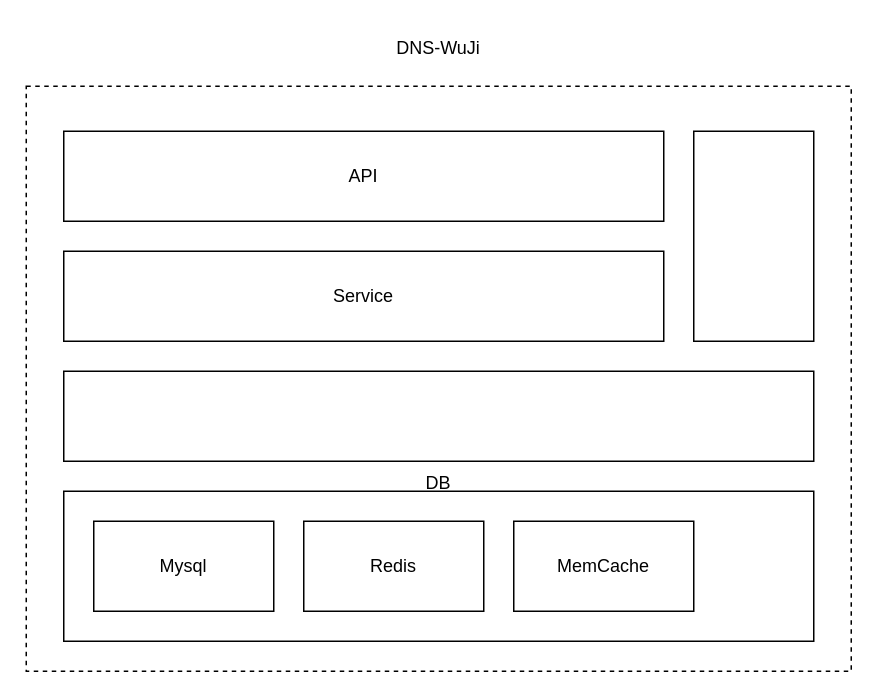
Image size: 878x698. Some labels were removed from this diagram. The centre of each missing label's shape, as x and y in pixels:
"bind-agent" goes at point 753,235.
"Dao" goes at point 438,415.
